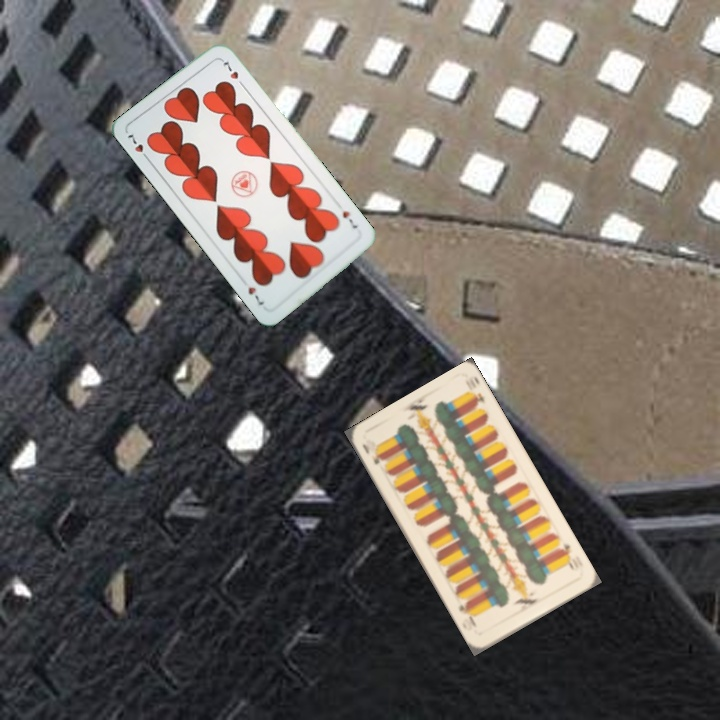E10: (358, 439, 386, 467), (555, 539, 577, 573)
H7: (124, 129, 153, 164), (338, 207, 360, 231)
